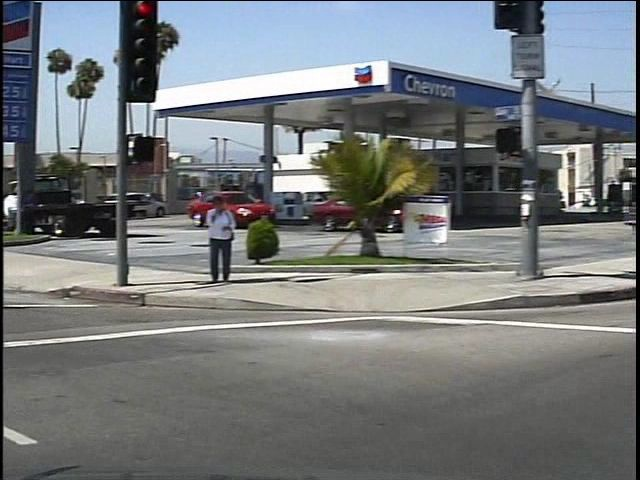person: (195, 192, 231, 289)
